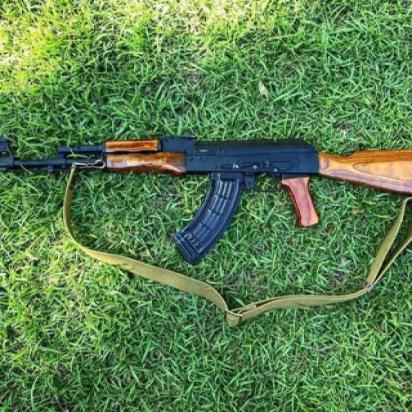Gun: (1, 123, 411, 262)
